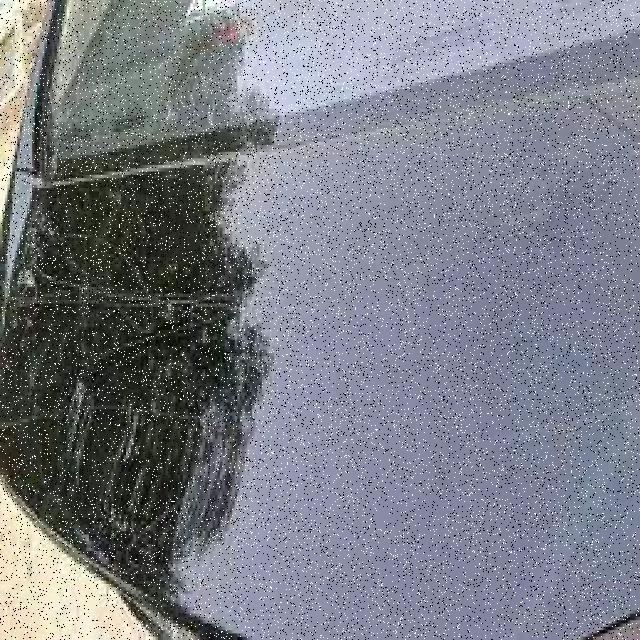Front-Windscreen-Damage: (3, 76, 638, 637)
